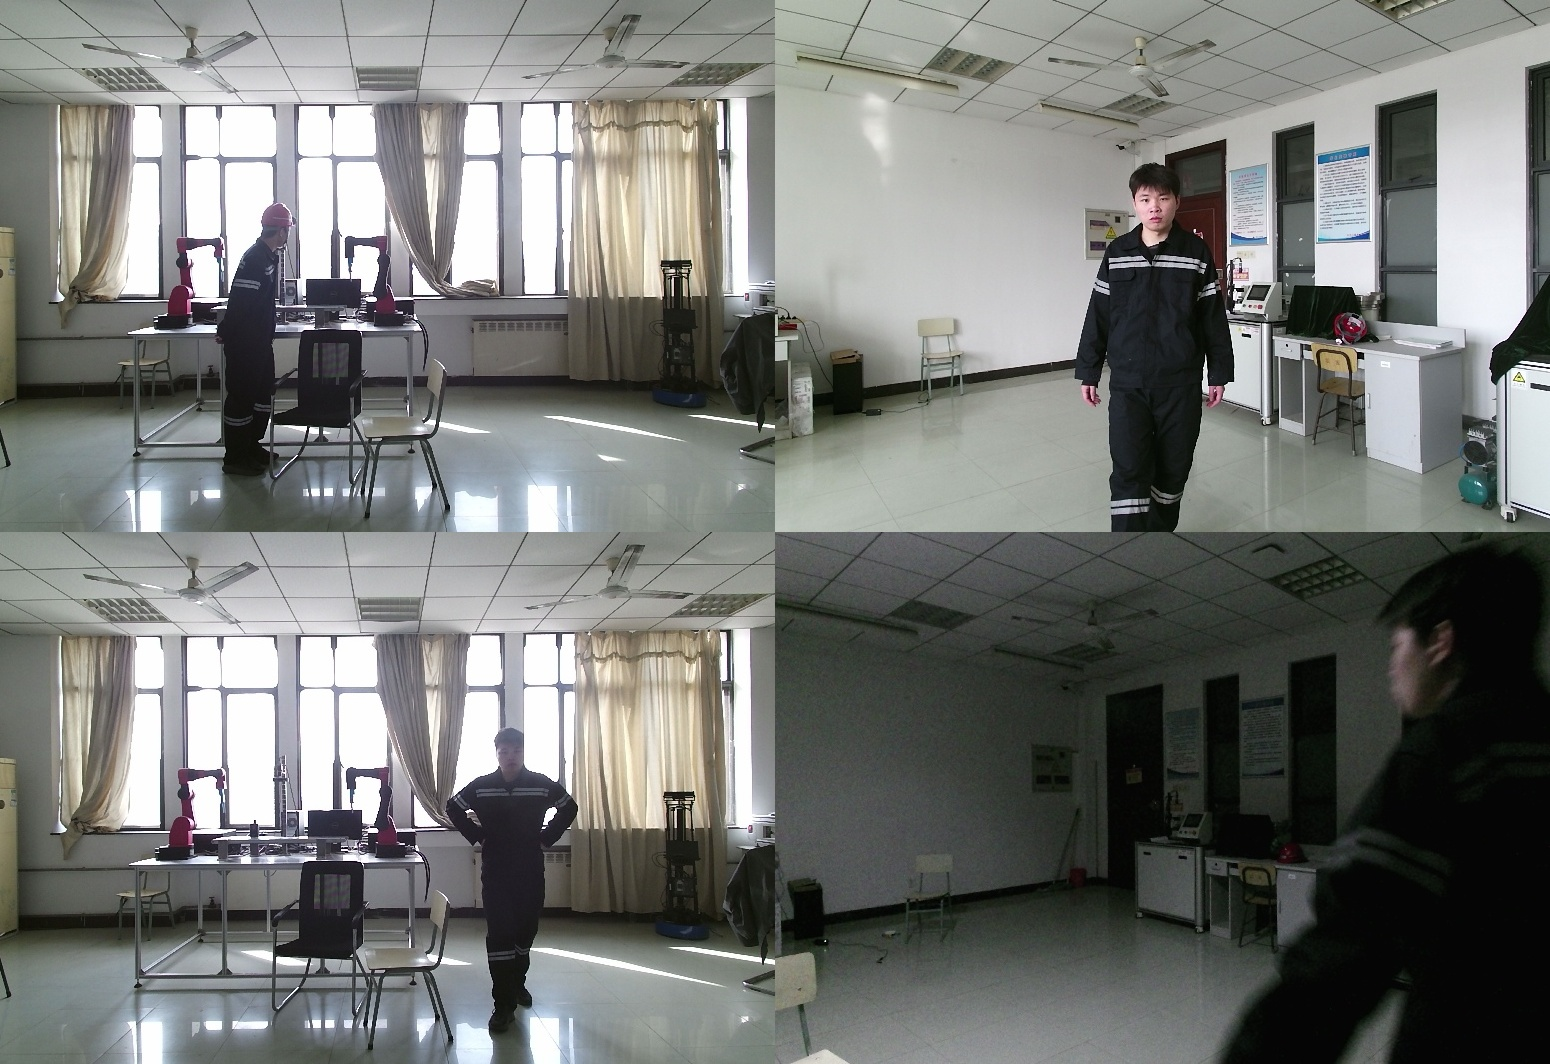person: (1311, 545, 1550, 1064), (1076, 165, 1245, 532), (448, 729, 589, 1030), (220, 204, 293, 478)
